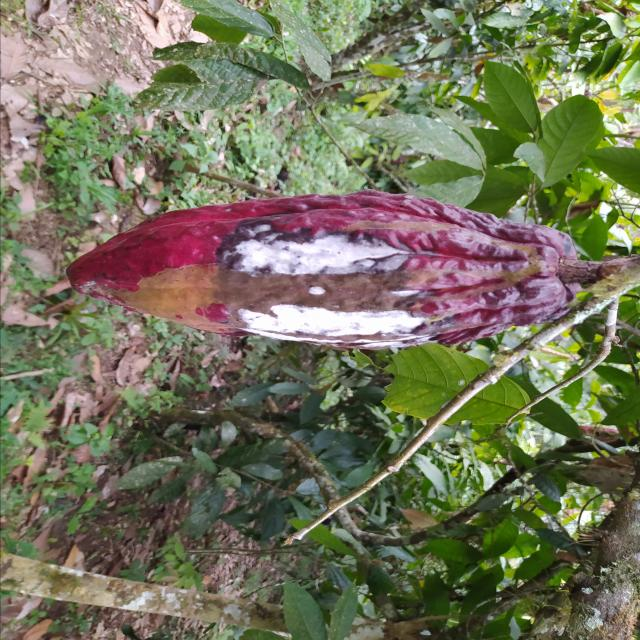Monilia: (66, 194, 568, 348)
